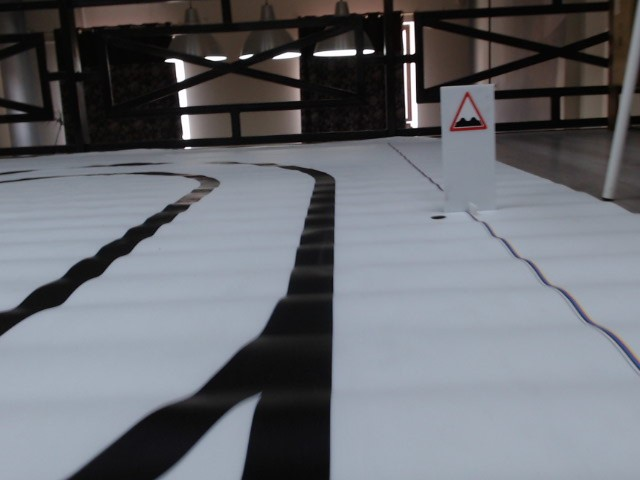Nerov: (448, 91, 491, 131)
